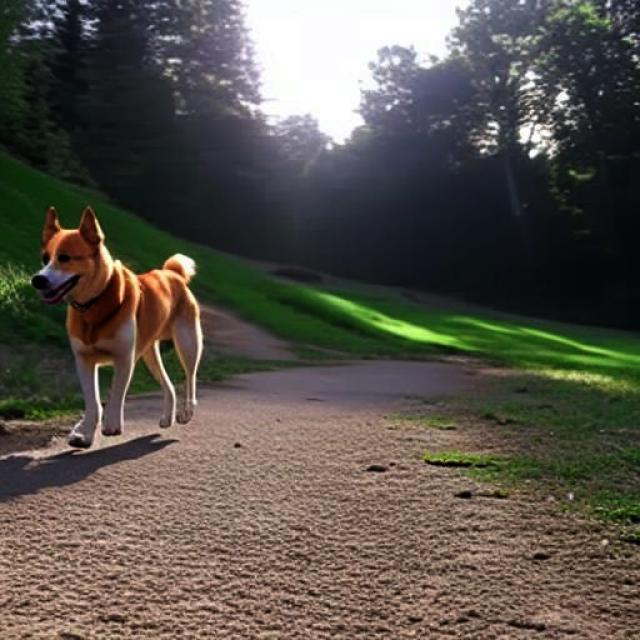Dog: (32, 203, 204, 448)
